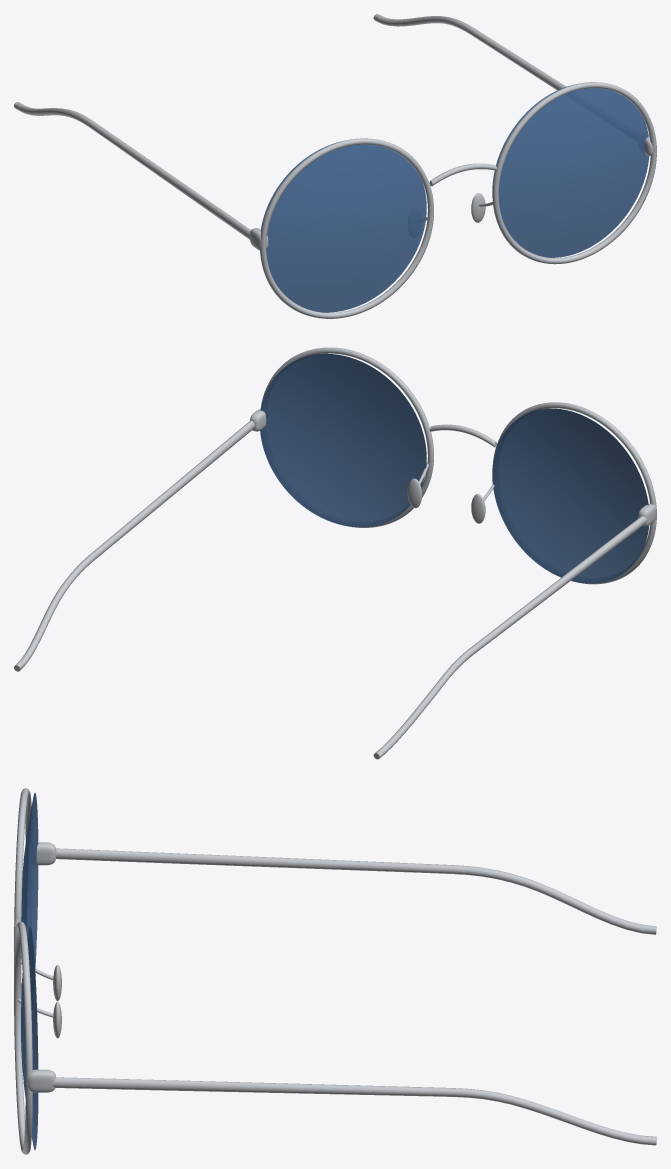
File: TO-RND-03.glb
The picture shows the model from 3 angles, top to bottom: view 1: azimuth 30°, elevation 25°; view 2: azimuth 150°, elevation 25°; view 3: azimuth 270°, elevation 25°; orthographic projection. The views are drawn at different scales.
Parts seen in each view (by area): view 1: lenses, frame; view 2: lenses, frame; view 3: frame, lenses.
Boxes of the visible parts, x1,y1,x2,y2 form: lenses: (260,85,649,312); frame: (14,14,656,318); lenses: (260,353,649,583); frame: (14,347,656,759); frame: (14,788,656,1154); lenses: (21,793,38,1149).
Size of the model in its own units: 0.1243 by 0.0525 by 0.1448.
